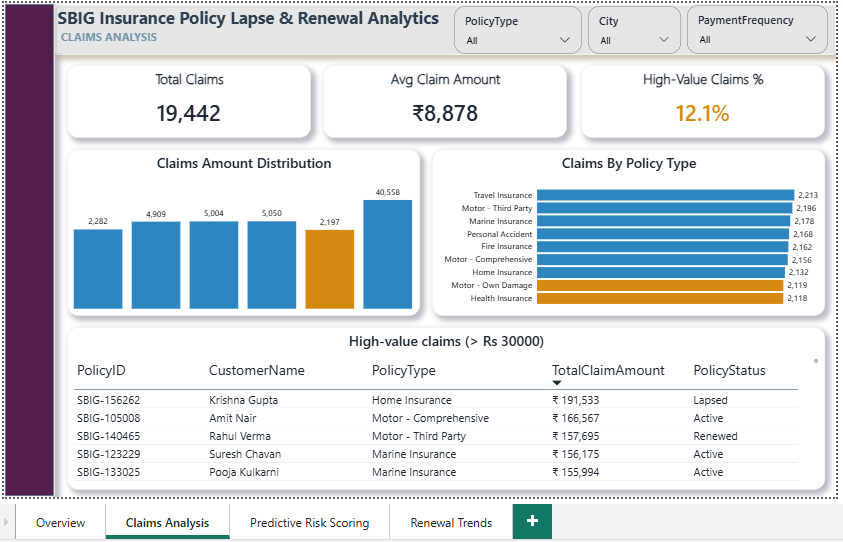

The dashboard page shown, as its layout file describes it:
{"tool":"powerbi","page":{"name":"Claims Analysis","canvas":[1600,950],"ordinal":1},"visuals":[{"type":"shape","box":[0,0,98.1,950],"z":0},{"type":"shape","box":[98.1,3.8,1501.9,96.2],"z":1000},{"type":"textbox","box":[98.1,0,755,100],"z":2000},{"type":"slicer","fields":{"Values":["LapseRiskSummary.PolicyType"]},"box":[865.4,5.8,246,92.3],"z":3000},{"type":"slicer","fields":{"Values":["LapseRiskSummary.City"]},"box":[1123.1,5.8,178.8,92.3],"z":4000},{"type":"slicer","fields":{"Values":["LapseRiskSummary.PaymentFrequency"]},"box":[1313.5,3.8,271.2,94.2],"z":5000},{"type":"cardVisual","title":"Total Claims","fields":{"Data":["all_measures.Total Claims"]},"box":[121.2,119.2,469.2,140.4],"z":6000},{"type":"cardVisual","title":"Avg Claim Amount","fields":{"Data":["all_measures.Avg Claim Amount"]},"box":[613.5,119.2,469.2,140.4],"z":7000},{"type":"cardVisual","title":"High-Value Claims %","fields":{"Data":["all_measures.High Value Claims %"]},"box":[1109.6,119.2,469.2,140.4],"z":8000},{"type":"columnChart","title":"Claims Amount Distribution","fields":{"Category":["LapseRiskSummary.ClaimAmountBucket"],"Y":["all_measures.Total Policies"]},"box":[121.2,280.8,678.8,321.2],"z":9000},{"type":"clusteredBarChart","title":"Claims By Policy Type","fields":{"Category":["LapseRiskSummary.PolicyType"],"Y":["all_measures.Total Claims"]},"box":[823.1,280.8,755.8,321.2],"z":10000},{"type":"tableEx","title":"High-value claims (> Rs 30000)","fields":{"Values":["LapseRiskSummary.PolicyID","LapseRiskSummary.CustomerName","LapseRiskSummary.PolicyType","LapseRiskSummary.TotalClaimAmount","LapseRiskSummary.PolicyStatus"]},"box":[121.2,623.1,1457.7,313.5],"z":11000}]}

Visuals, with their boxes on the page's 1600x950 design canvas (x1, y1, x2, y2). These are canvas units, not pixel positions in the 843x542 screenshot, which may show the page scaled, cropped or inside an application window:
shape: x1=0, y1=0, x2=98, y2=950
shape: x1=98, y1=4, x2=1600, y2=100
textbox: x1=98, y1=0, x2=853, y2=100
slicer - LapseRiskSummary.PolicyType: x1=865, y1=6, x2=1111, y2=98
slicer - LapseRiskSummary.City: x1=1123, y1=6, x2=1302, y2=98
slicer - LapseRiskSummary.PaymentFrequency: x1=1314, y1=4, x2=1585, y2=98
"Total Claims" cardVisual: x1=121, y1=119, x2=590, y2=260
"Avg Claim Amount" cardVisual: x1=614, y1=119, x2=1083, y2=260
"High-Value Claims %" cardVisual: x1=1110, y1=119, x2=1579, y2=260
"Claims Amount Distribution" columnChart: x1=121, y1=281, x2=800, y2=602
"Claims By Policy Type" clusteredBarChart: x1=823, y1=281, x2=1579, y2=602
"High-value claims (> Rs 30000)" tableEx: x1=121, y1=623, x2=1579, y2=937
